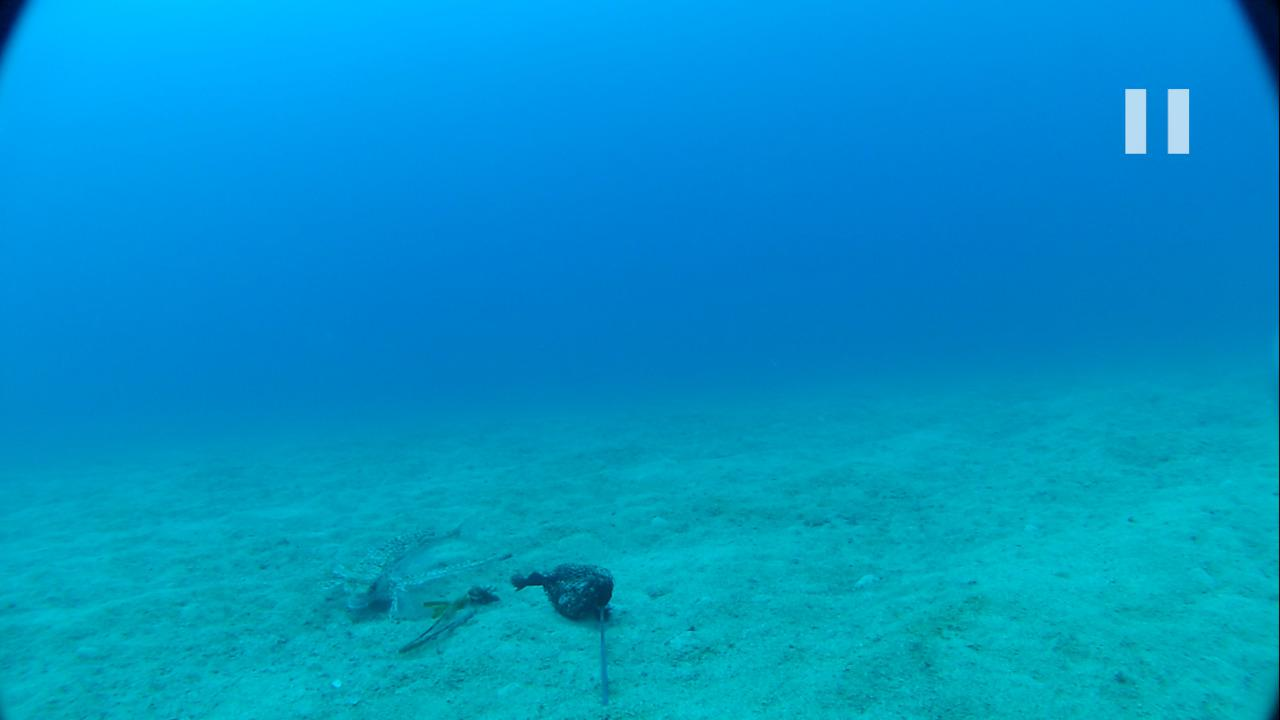dactylopterus: (321, 515, 493, 619)
